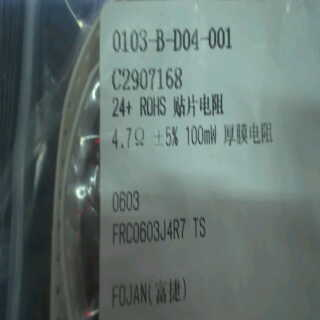4.7R: (111, 124, 149, 156)
